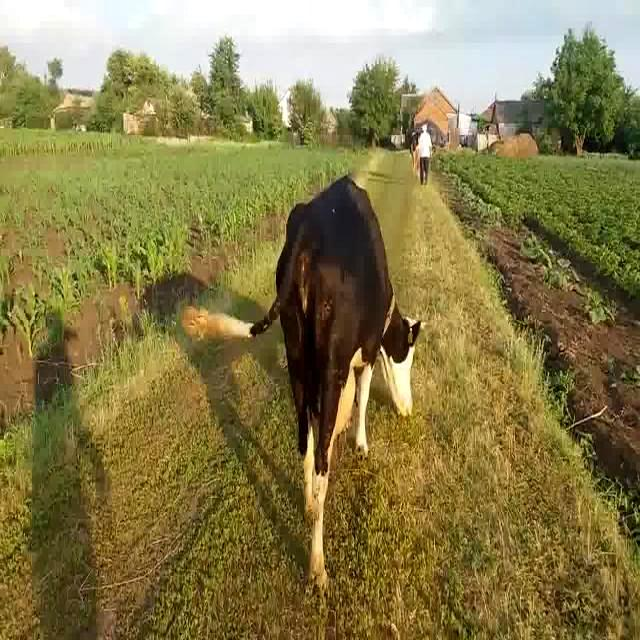COW: (182, 178, 421, 586)
